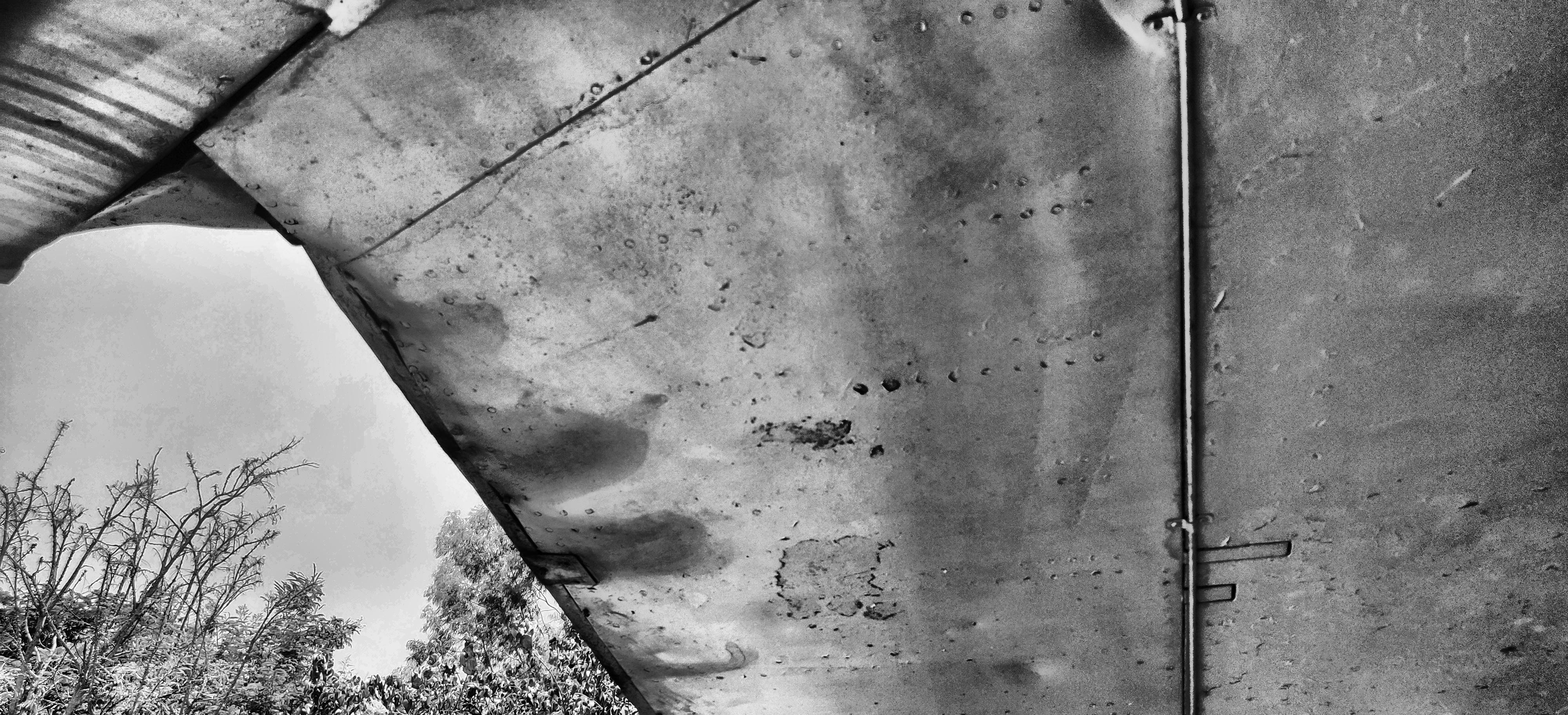dent: (87, 148, 256, 217), (1095, 0, 1167, 59), (630, 646, 746, 682), (340, 264, 418, 313), (1025, 661, 1046, 680)
missing-head: (379, 319, 394, 334), (341, 269, 356, 282)
paint-peel-off: (777, 535, 888, 620), (760, 417, 853, 449)
